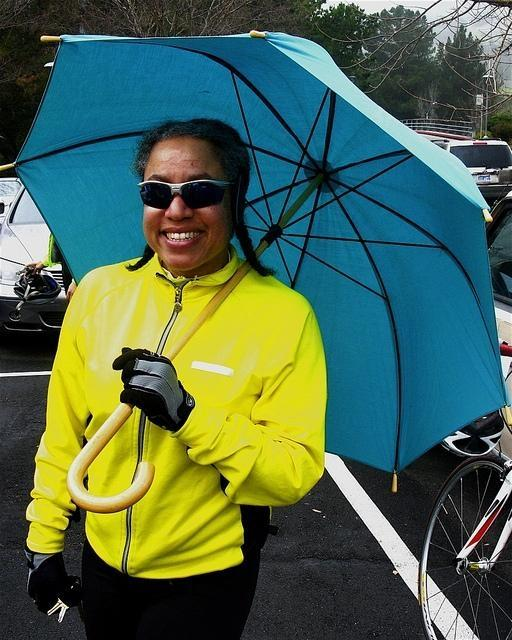bicycle: (416, 451, 512, 640)
car: (441, 194, 512, 467), (0, 176, 68, 346), (428, 138, 512, 198)
